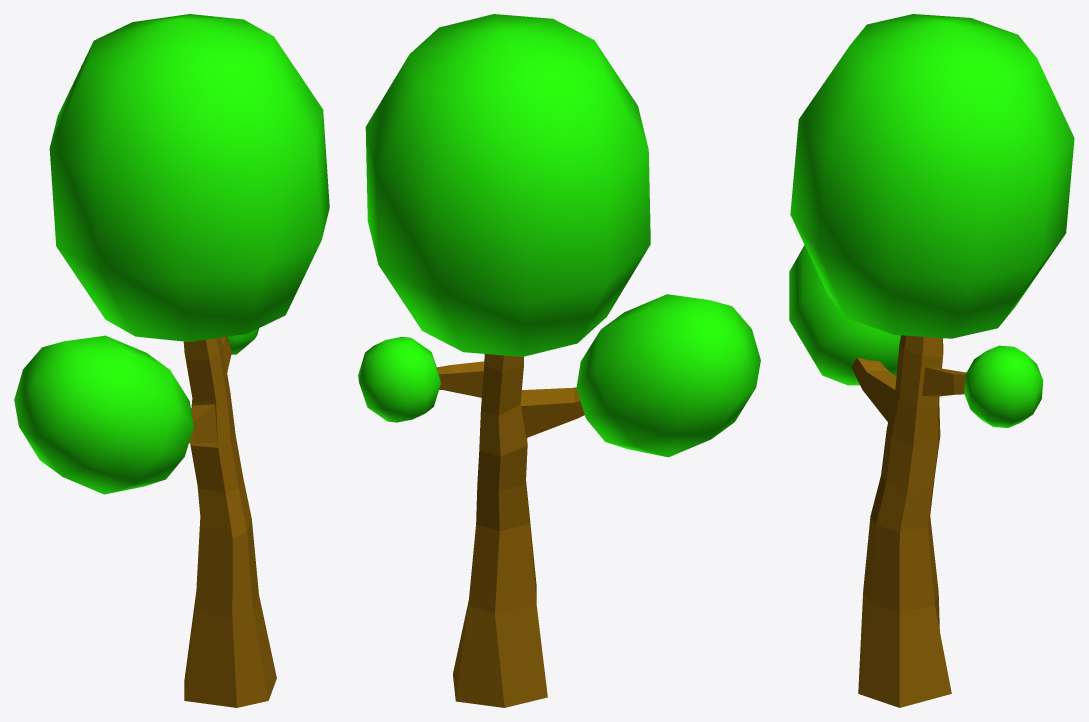
The model's file is Secuoya.FBX.
3 views of the same model, side by side, from view 1: azimuth 30°, elevation 25°; view 2: azimuth 150°, elevation 25°; view 3: azimuth 270°, elevation 25° (orthographic). The views are drawn at different scales.
Parts seen in each view (by area): view 1: NGon001; view 2: NGon001; view 3: NGon001.
Part boxes in pixels (x1=…): NGon001: x1=14, y1=14, x2=329, y2=707; NGon001: x1=358, y1=14, x2=760, y2=707; NGon001: x1=789, y1=14, x2=1074, y2=707.
Size of the model in its own units: 142 by 284 by 113.
